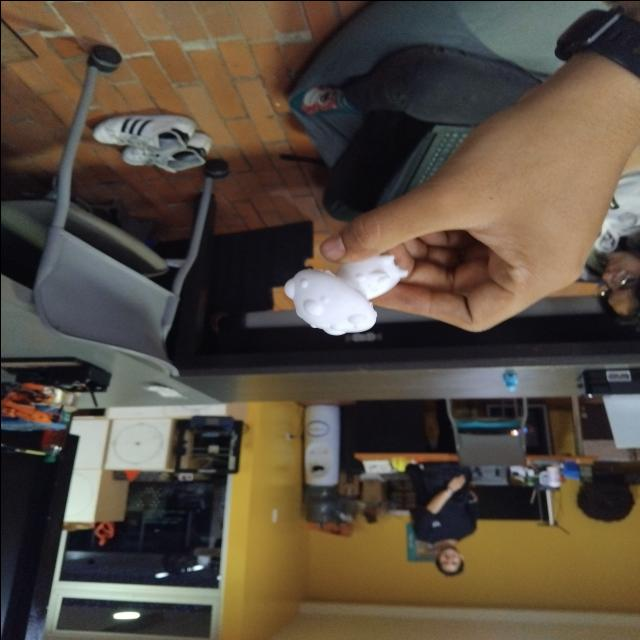Hongo: (270, 246, 426, 336)
